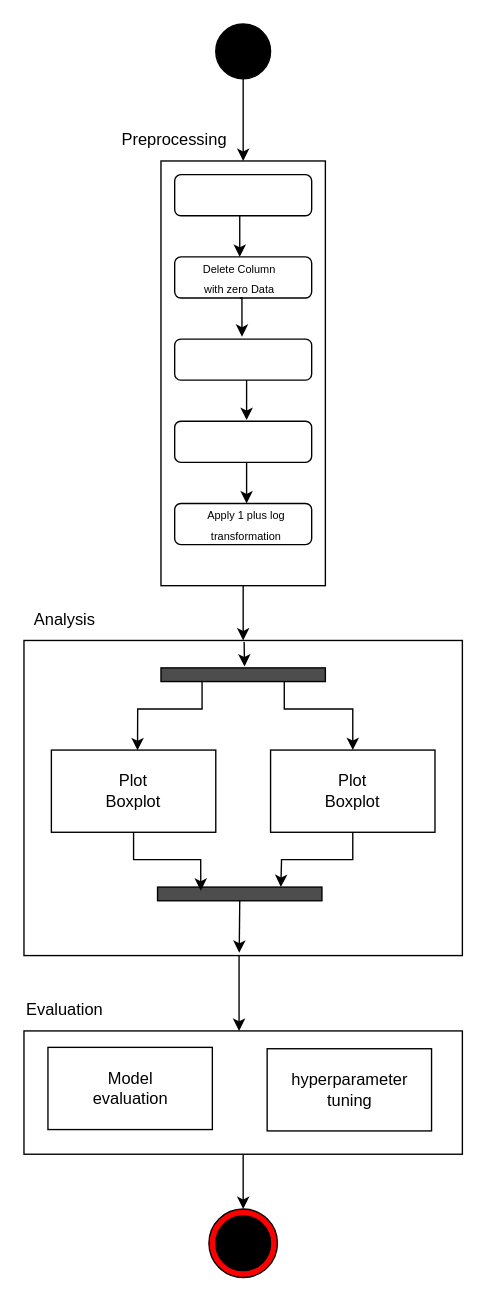
The diagram is 486 pixels wide and 1302 high, and some of its shapes have lost their labels. The shapes that lost their labels are listed below. From the top down, each one's centre as x and y in pixels, then its label:
At point (242, 194): "Count Null Data".
At point (242, 359): "Separate Categorial numerical".
At point (242, 441): "Drop Column with zero threshold".
